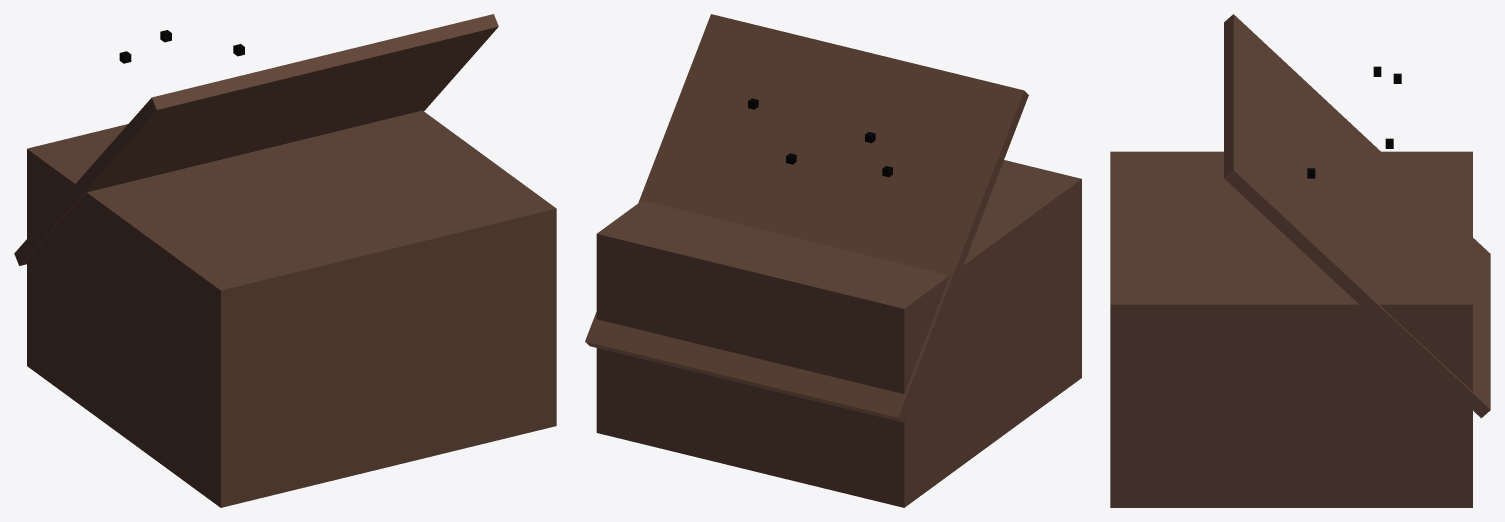
The model's file is compostbin.glb.
The picture shows the model from 3 angles, left to right: view 1: azimuth 30°, elevation 25°; view 2: azimuth 150°, elevation 25°; view 3: azimuth 270°, elevation 25°; orthographic projection. The views are drawn at different scales.
Parts seen in each view (by area): view 1: compostbin; view 2: compostbin; view 3: compostbin.
Boxes of the visible parts, x1,y1,x2,y2 form: compostbin: [14, 14, 556, 507]; compostbin: [585, 14, 1081, 507]; compostbin: [1110, 14, 1490, 507].
Bounding box in the file's own units: 0.56 × 0.5678 × 0.5773.
